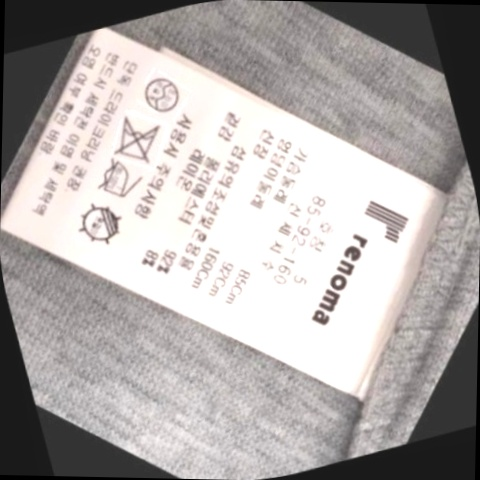DN_wash: (108, 110, 172, 168)
dry_clean_petrol_only: (138, 68, 189, 118)
iron_low: (90, 155, 147, 207)
line_dry_in_shade: (73, 197, 134, 251)
